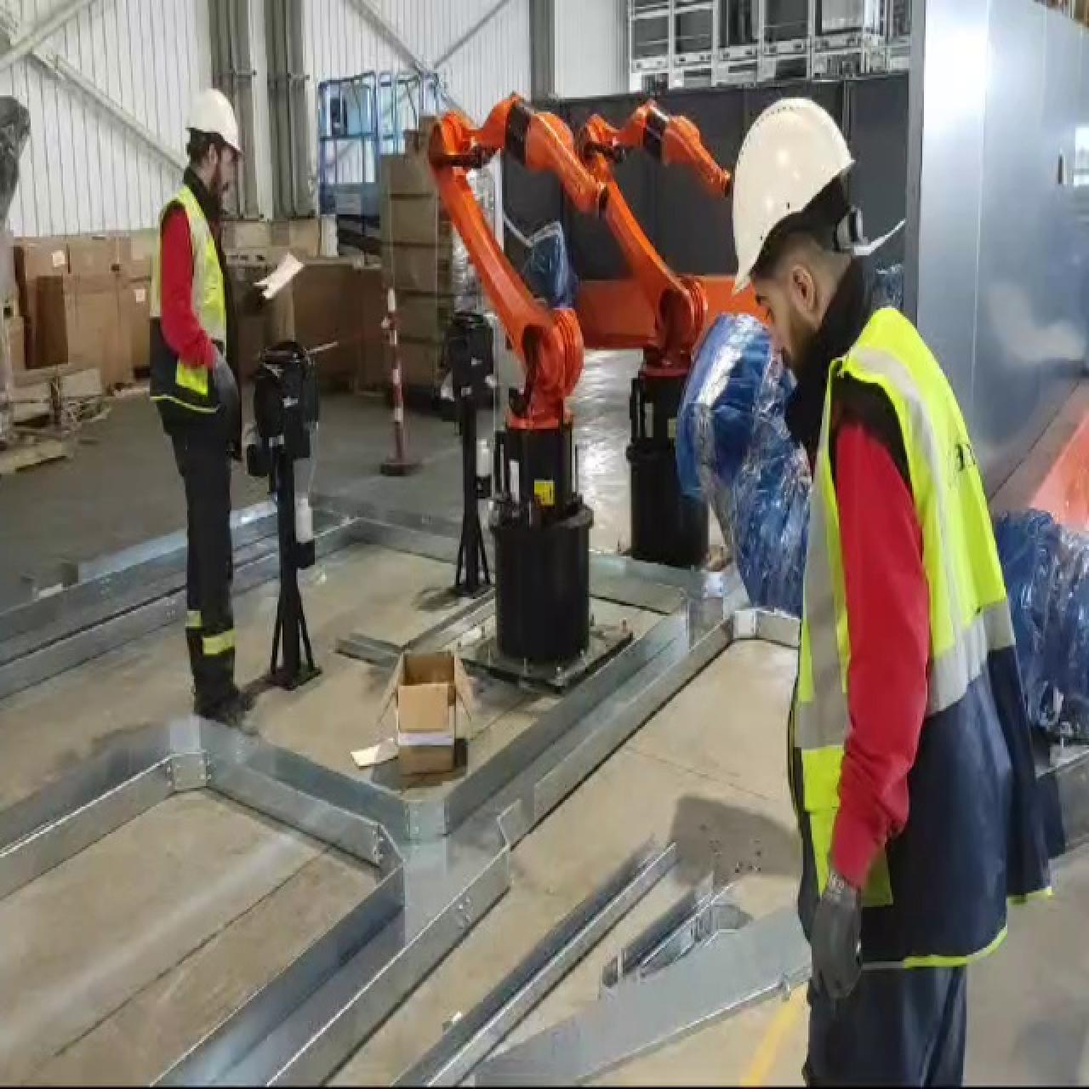Person: (711, 73, 1089, 1089), (127, 70, 295, 740)
Safety_Vest: (779, 305, 1080, 992), (136, 192, 266, 423)
